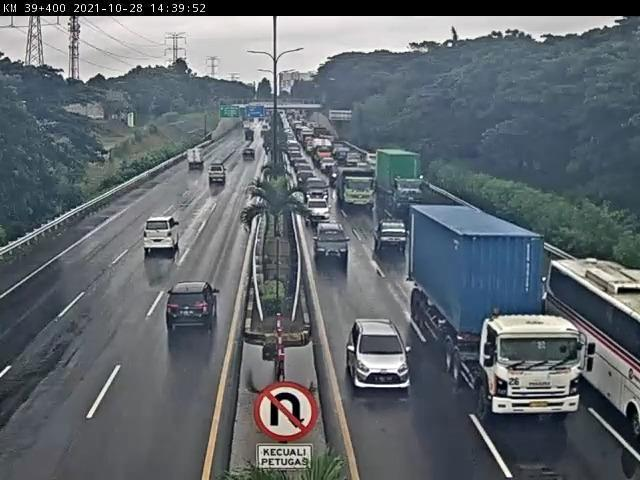bus: (537, 251, 640, 428)
car: (347, 317, 408, 387), (169, 282, 218, 328), (503, 256, 536, 299), (316, 223, 351, 260), (146, 218, 181, 254), (374, 220, 409, 252), (303, 176, 328, 199), (305, 195, 330, 215), (209, 165, 227, 185), (296, 170, 315, 185)
truck: (408, 203, 571, 401), (378, 146, 426, 206), (339, 169, 376, 209), (187, 147, 208, 171)
